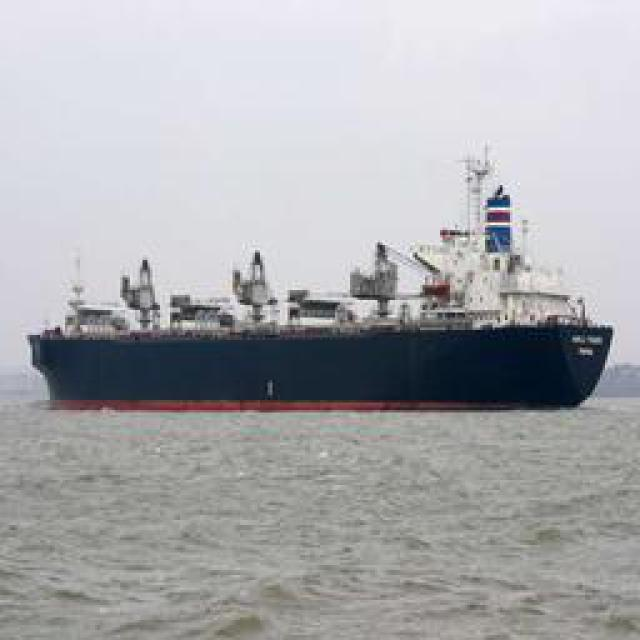Ship: (21, 223, 621, 408)
